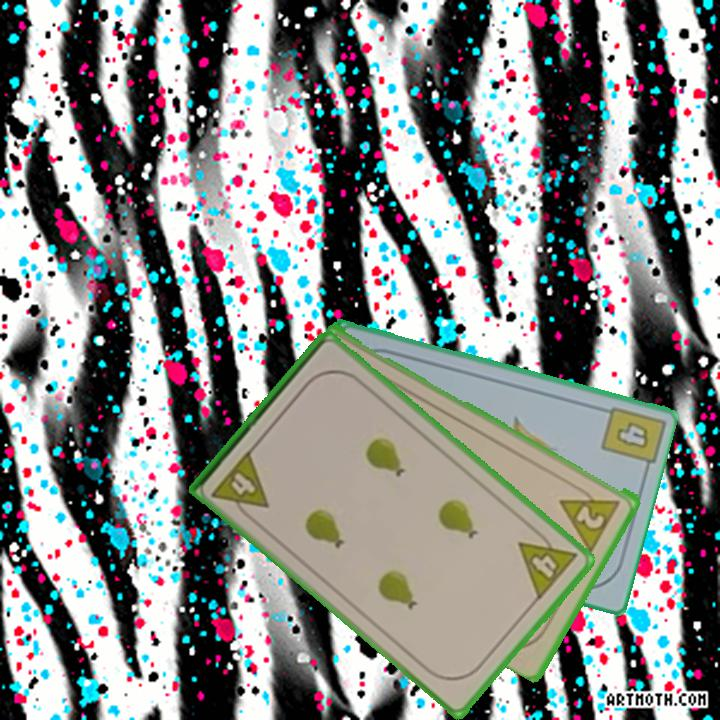2p: (573, 501, 608, 532)
4b: (612, 417, 652, 451)
4p: (514, 523, 580, 603), (208, 446, 272, 525)
